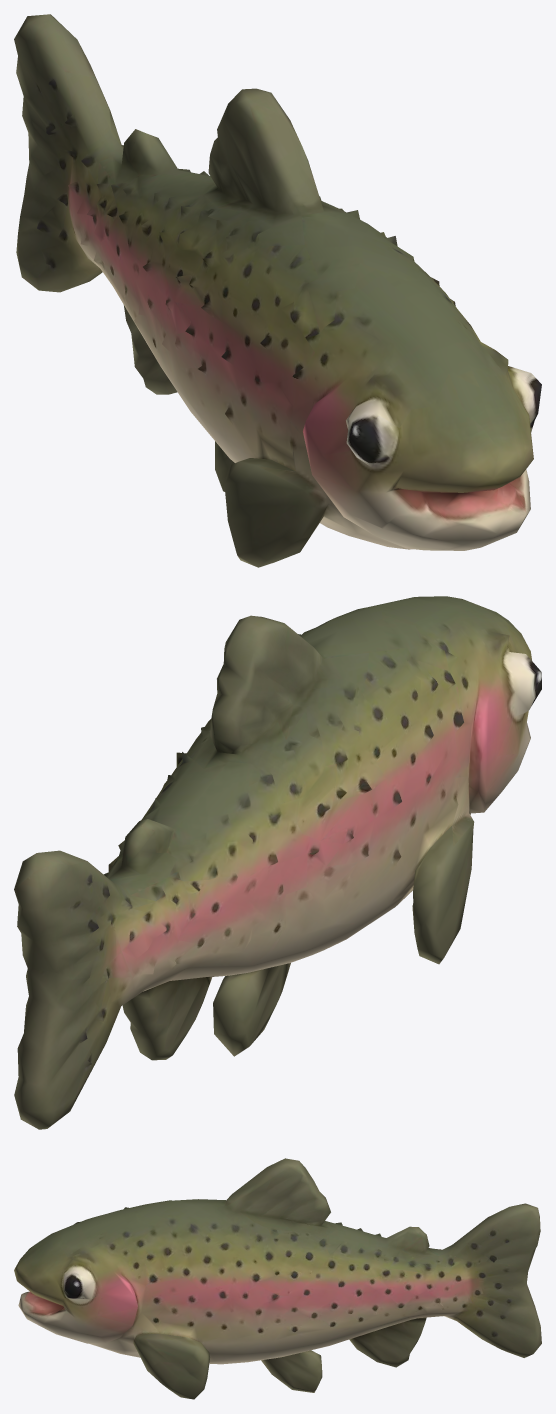
Rendered from fish-trout.glb.
3 renders of one model, top to bottom at view 1: azimuth 30°, elevation 25°; view 2: azimuth 150°, elevation 25°; view 3: azimuth 270°, elevation 25°, orthographic. The views are drawn at different scales.
Visible parts, largest first — view 1: tripo_node_9c9a6202-af9e-48ab-84cb-ed3146214d20; view 2: tripo_node_9c9a6202-af9e-48ab-84cb-ed3146214d20; view 3: tripo_node_9c9a6202-af9e-48ab-84cb-ed3146214d20.
Part boxes in pixels (<box>): tripo_node_9c9a6202-af9e-48ab-84cb-ed3146214d20: <box>14,14,541,567</box>; tripo_node_9c9a6202-af9e-48ab-84cb-ed3146214d20: <box>14,596,541,1129</box>; tripo_node_9c9a6202-af9e-48ab-84cb-ed3146214d20: <box>14,1158,541,1399</box>.
Bounding box in the file's own units: 0.2586 × 0.4859 × 1.
1 material, 1 textured.
